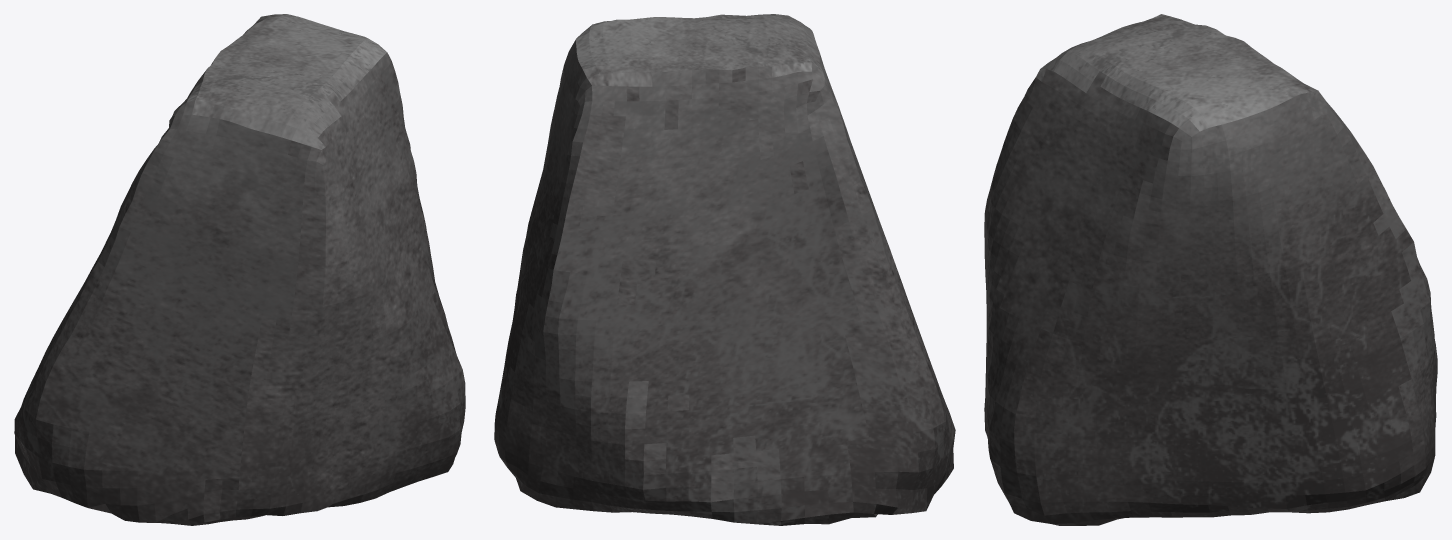
Rendered from Alt_rock_02.fbx.
3 renders of one model, left to right at view 1: azimuth 30°, elevation 25°; view 2: azimuth 150°, elevation 25°; view 3: azimuth 270°, elevation 25°, orthographic. The views are drawn at different scales.
Visible parts, largest first — view 1: Cube.001; view 2: Cube.001; view 3: Cube.001.
Boxes of the visible parts, bbox=[...] form: Cube.001: bbox=[14, 14, 465, 525]; Cube.001: bbox=[494, 14, 955, 525]; Cube.001: bbox=[984, 14, 1437, 525].
Bounding box in the file's own units: 201 × 205 × 202.
